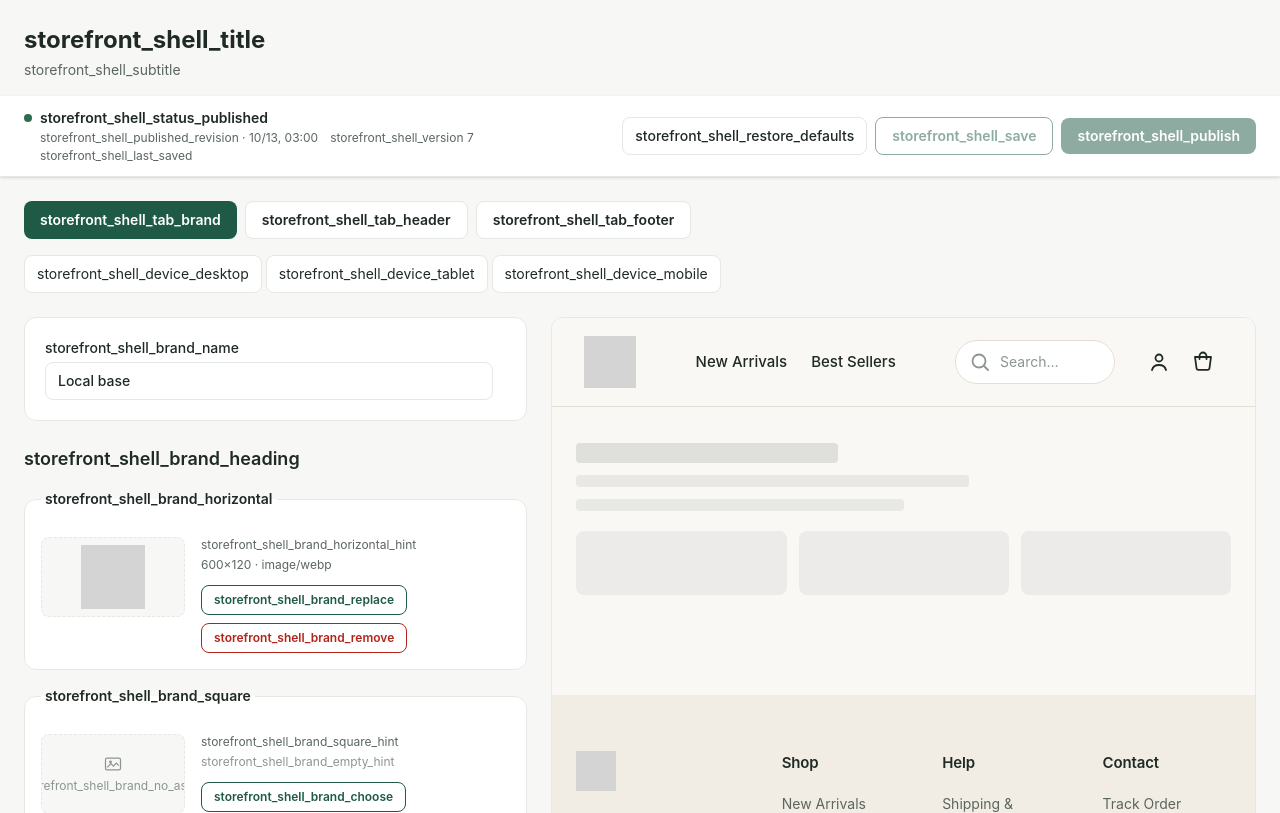
StorefrontShellEditor save and publish lifecycle › preserves local edits on 409 and exposes an explicit reload
Replace the text in the field showing "Local base" with "Keep local". click: point(269, 381)
box: [45, 362, 493, 400]
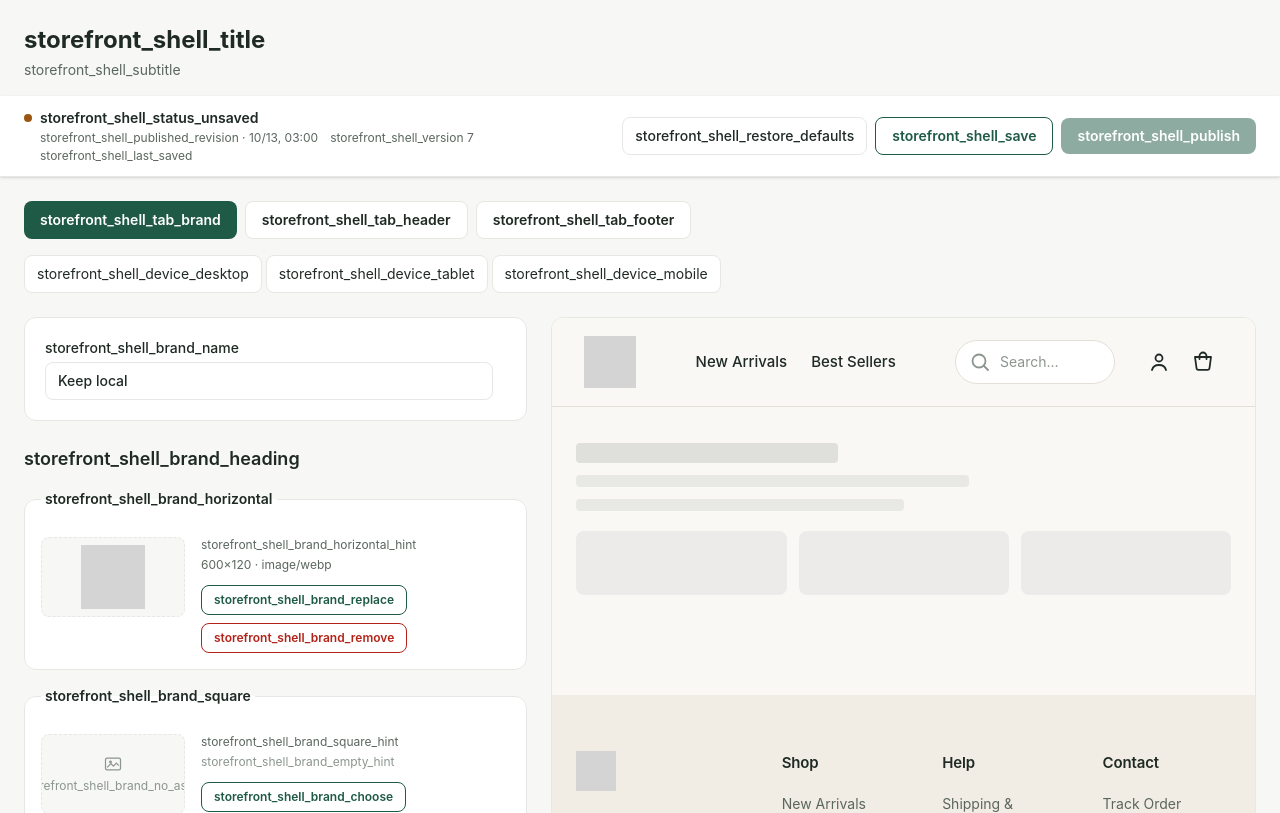
Click the button "storefront_shell_save". click: point(964, 136)
box: [875, 117, 1054, 155]
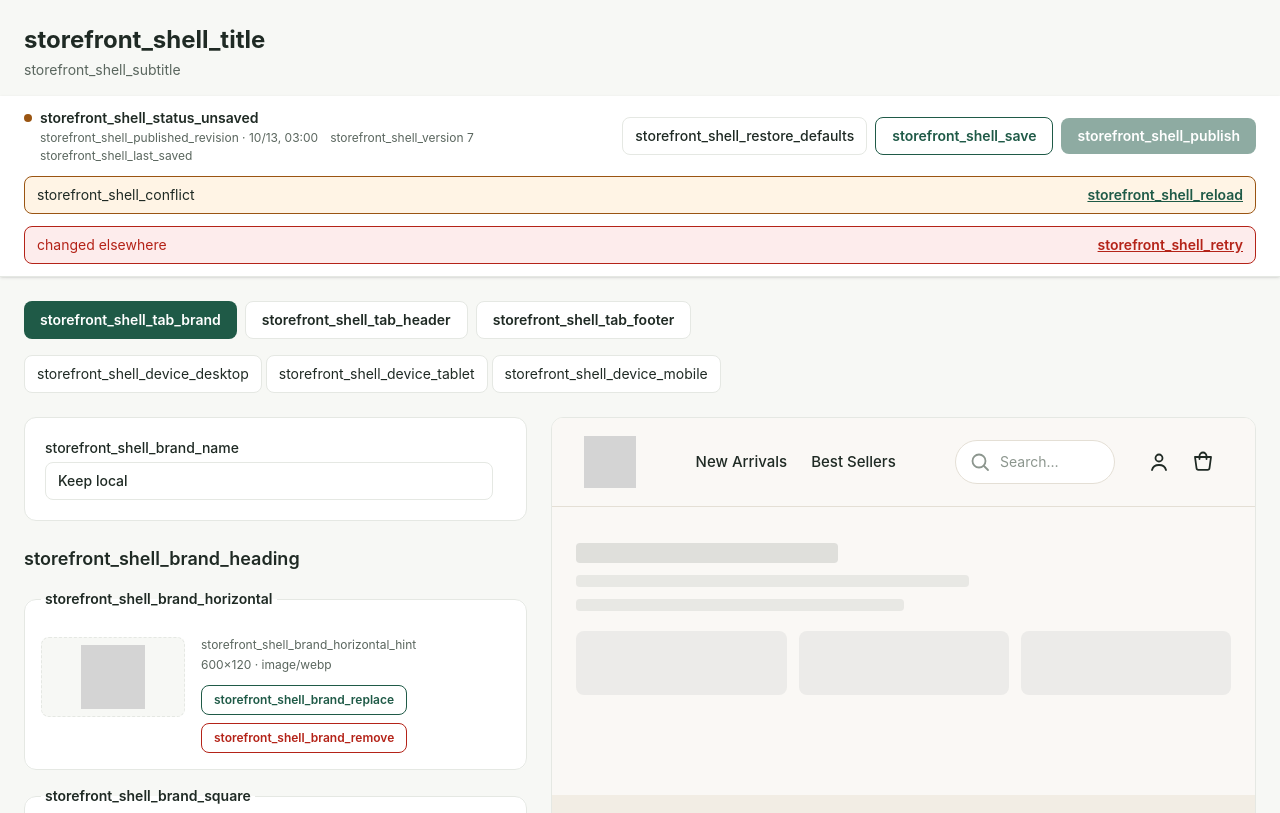
Now the text "storefront_shell_conflict" is shown, box [37, 185, 194, 205]
Click the button "storefront_shell_reload". click: point(1165, 195)
box: [1087, 185, 1243, 205]
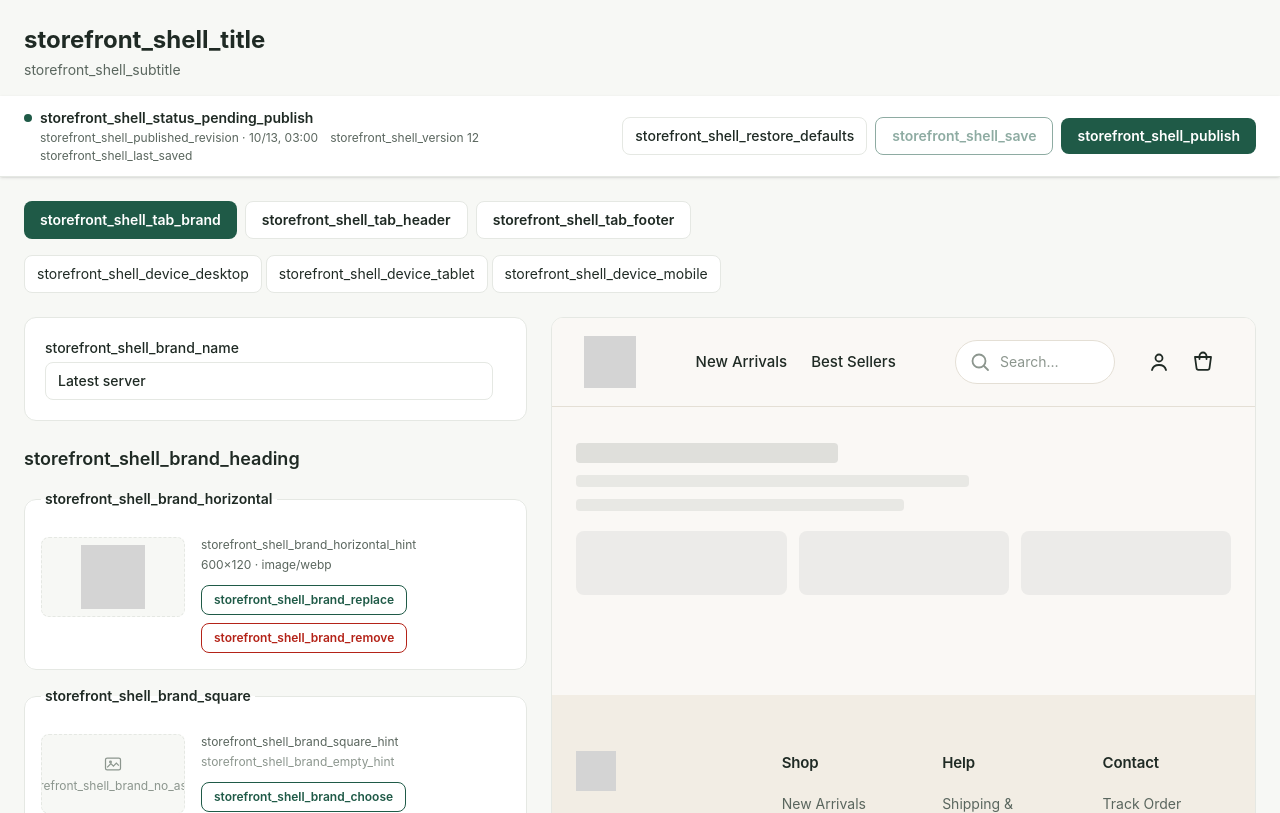
Now the field showing "Latest server" is shown, box [45, 362, 493, 400]
